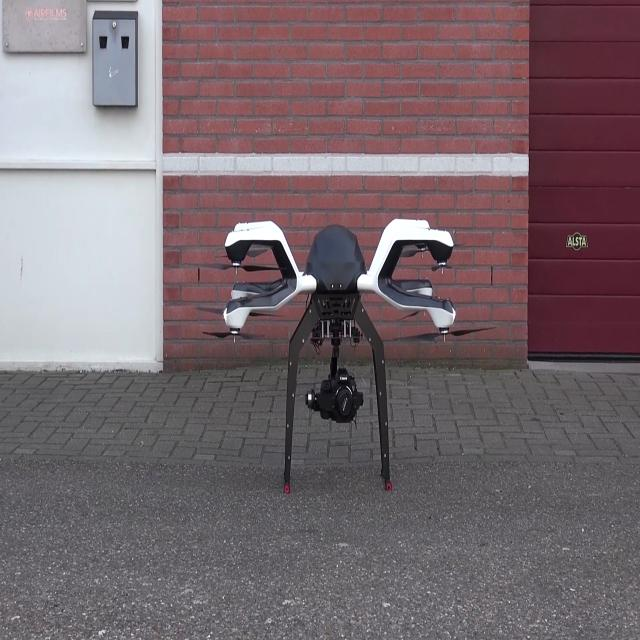drone: (210, 88, 482, 510)
